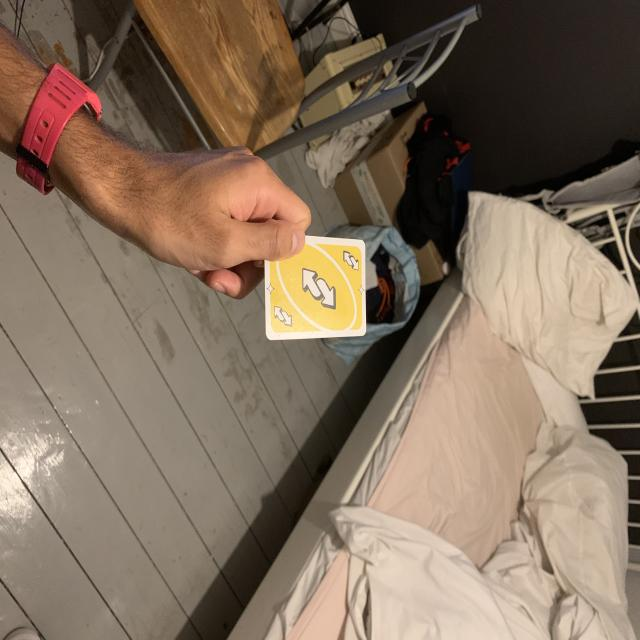lyellowrevers-20: (338, 246, 362, 278)
